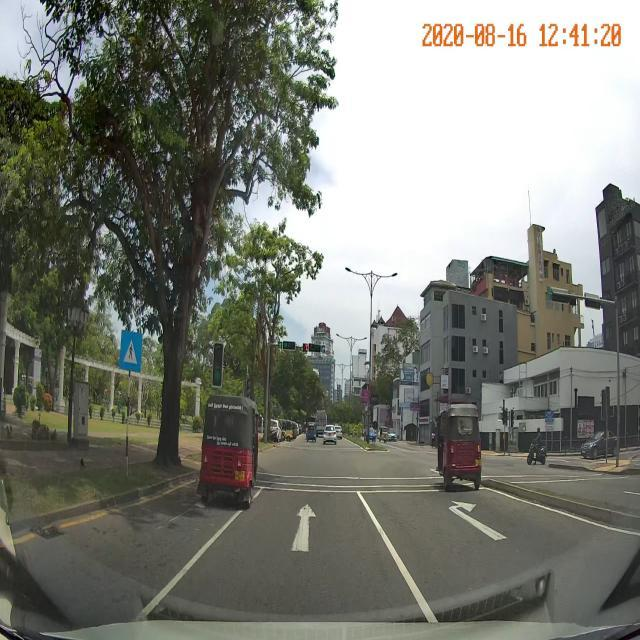forward: (205, 499, 401, 561)
right: (368, 495, 596, 558)
